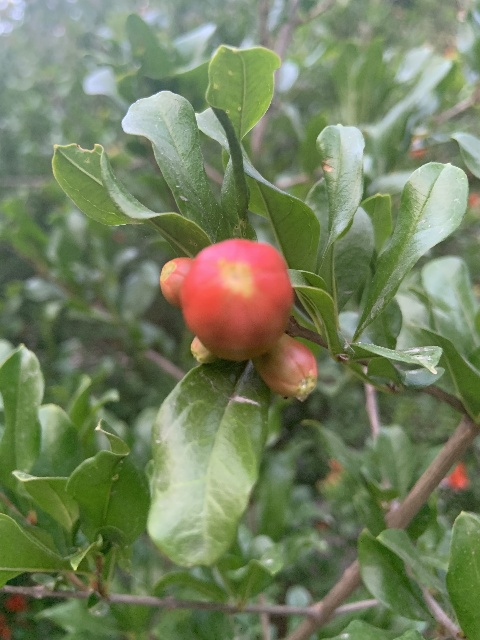bud: (179, 239, 294, 360), (254, 334, 317, 399), (160, 256, 195, 309), (190, 338, 216, 363)
